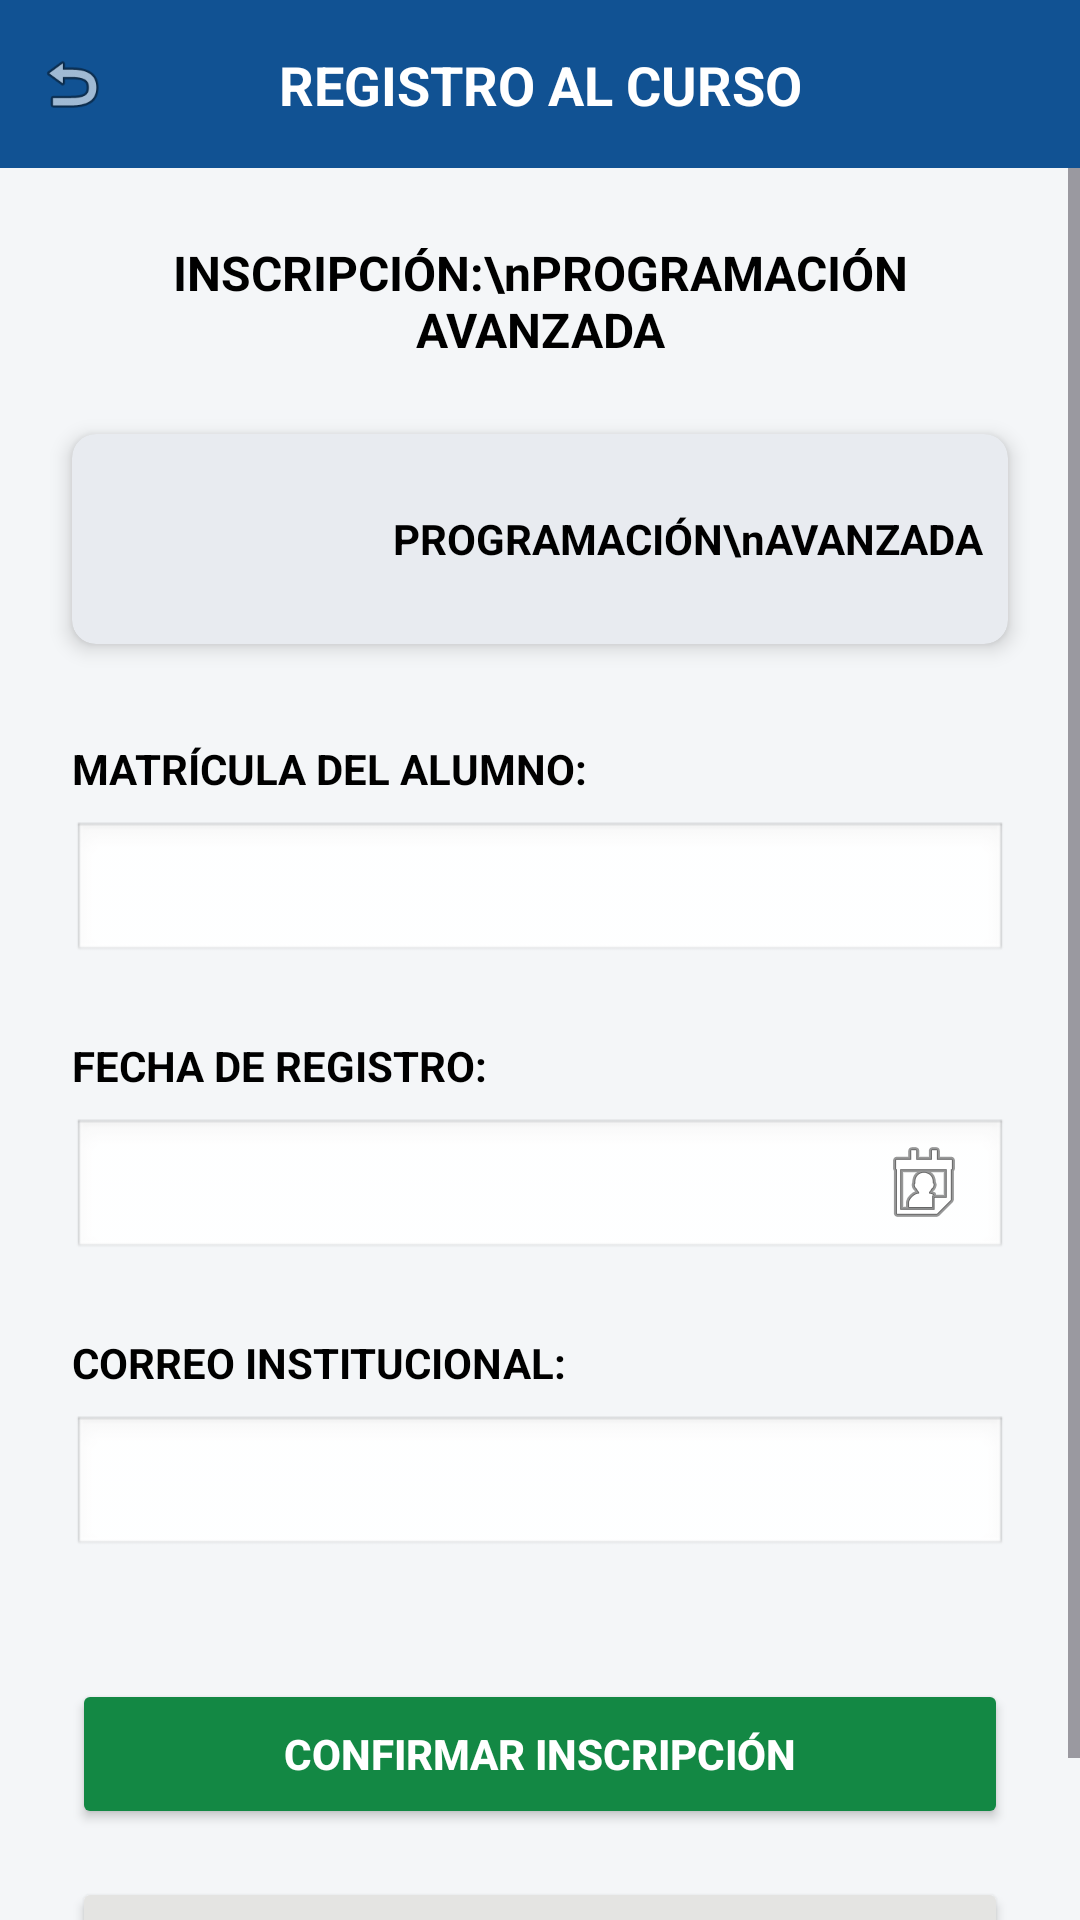

Where icons sit on this 1080×1920 app screen, as (x1, y1, x2, y2):
revert: (47, 61, 99, 108)
